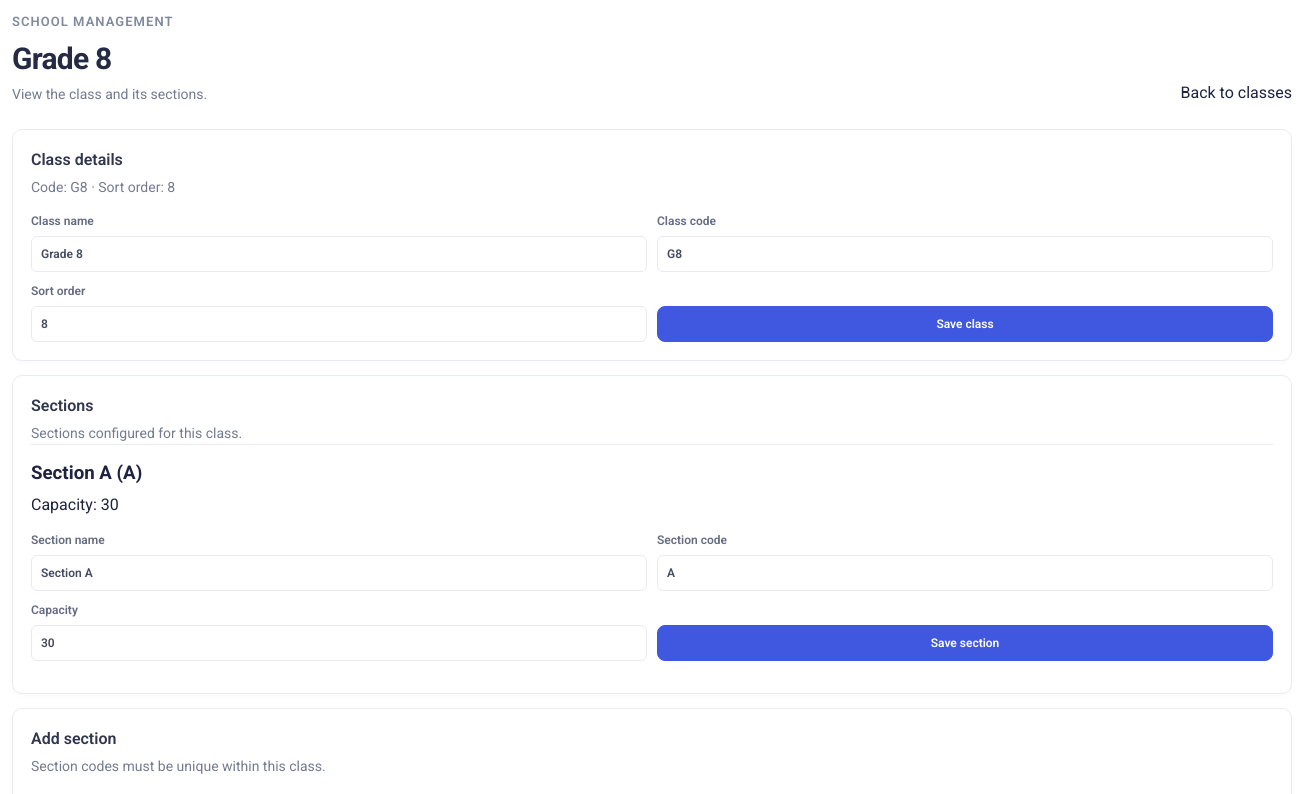
Test: API-mode class and section creation › can remove a section capacity limit
Clear the number field labelled "Capacity" at (339,643), box [31,625,647,661]
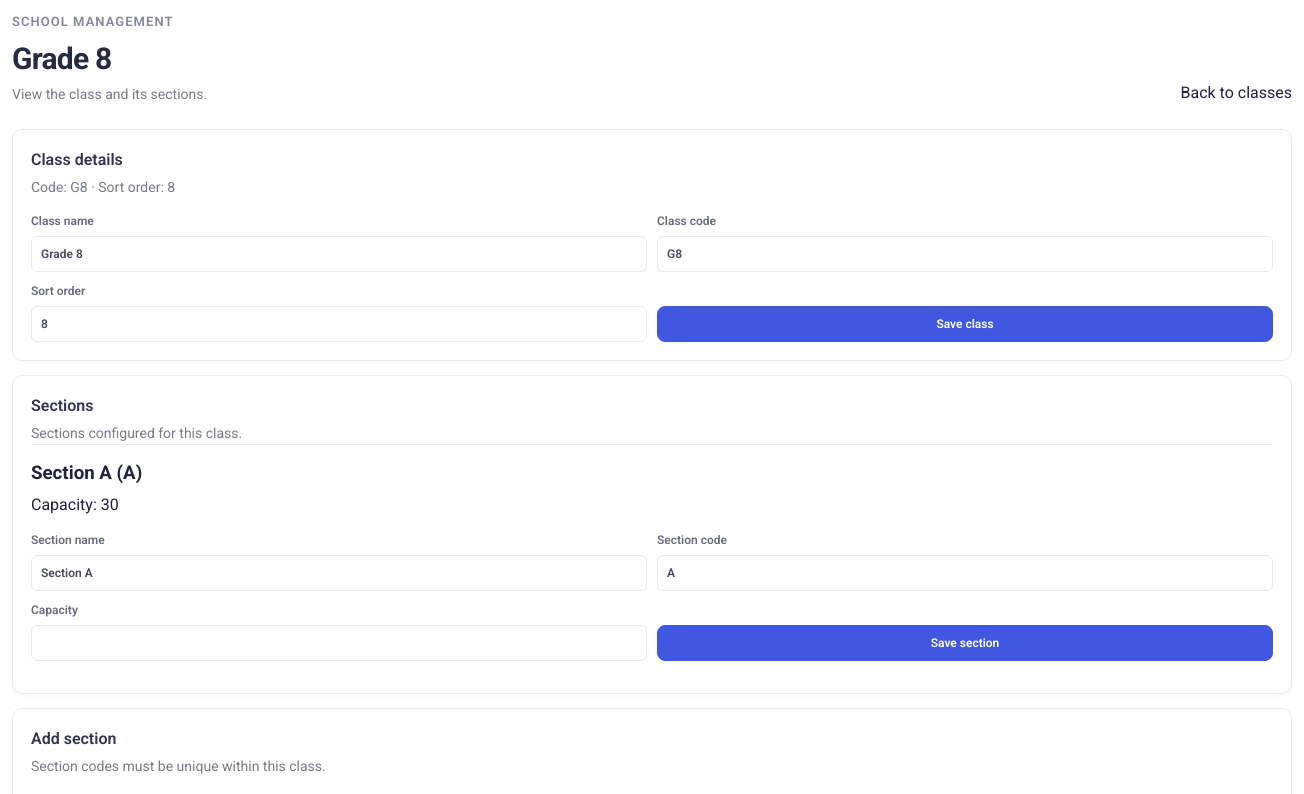
Click the button "Save section".
click(965, 643)  # box [657,625,1273,661]
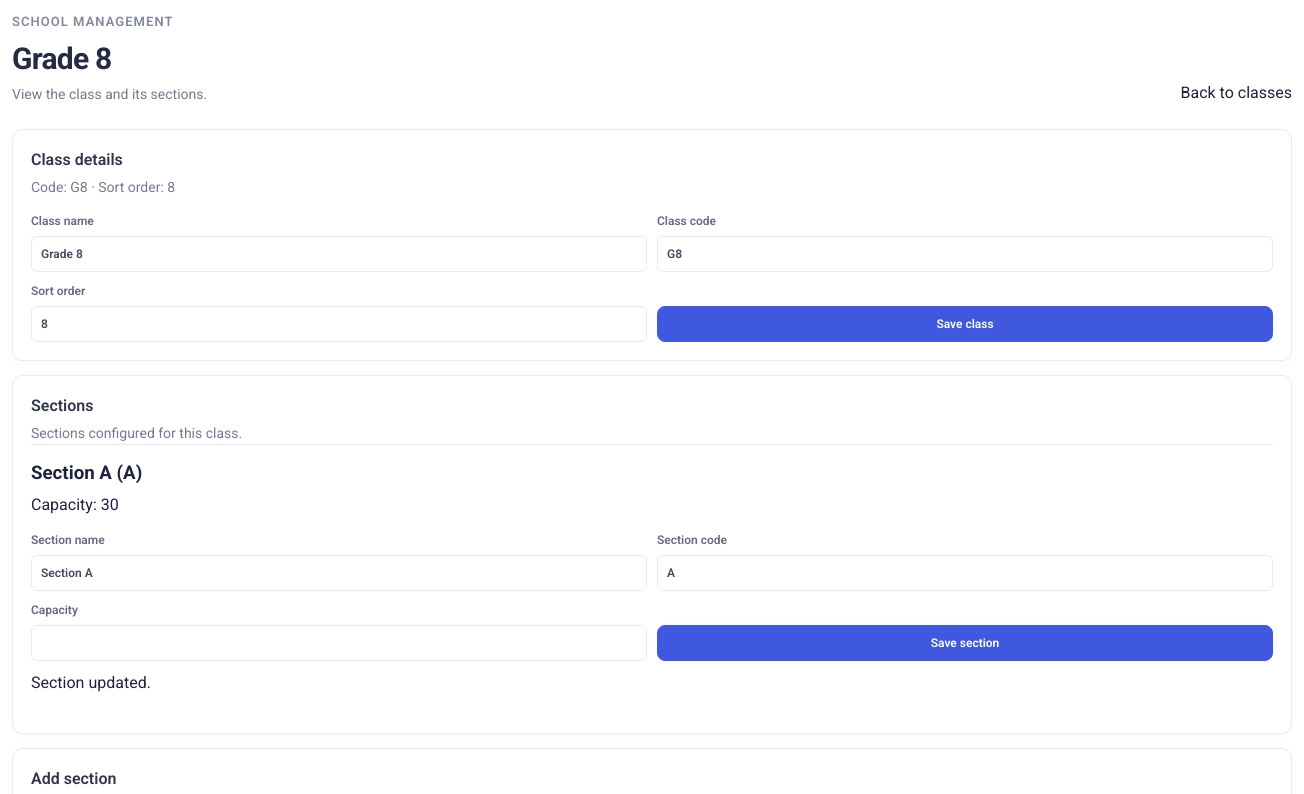
Result: the text "Section updated." is shown at [31,673,151,692]
